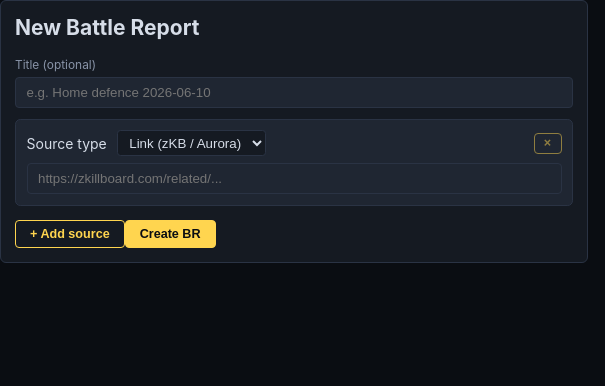
Scenario: SourceComposer › rejects a window with start >= end client-side
Switch row 0 to window
Select "Time window" in the dropdown labelled "Source type": (192, 143) top-left (117, 130), bottom-right (266, 156)
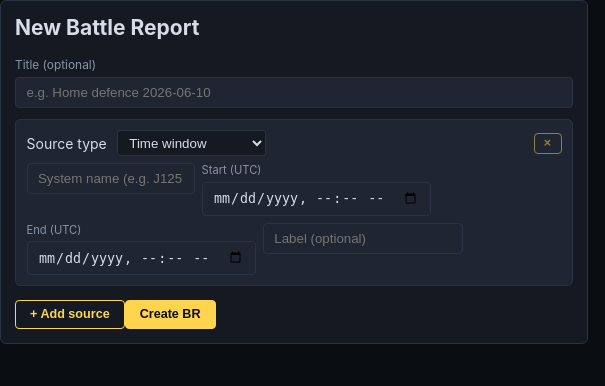
In the field with placeholder "System name (e.g. J125122)": (110, 179) top-left (26, 163), bottom-right (194, 194), type "J125122"
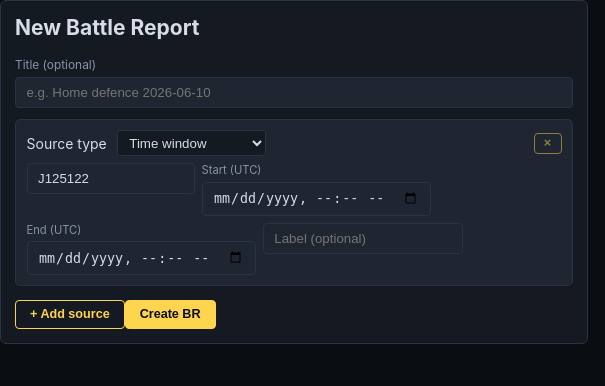
In the field labelled "Start (UTC)": (316, 199) top-left (202, 182), bottom-right (431, 216), type "2026-06-10T20:00"
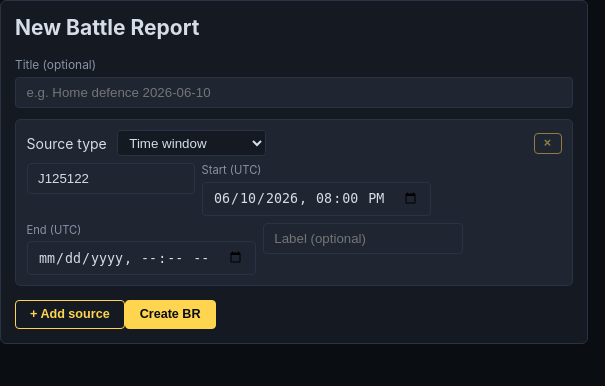
In the field labelled "End (UTC)": (141, 258) top-left (26, 241), bottom-right (256, 275), type "2026-06-10T18:00"
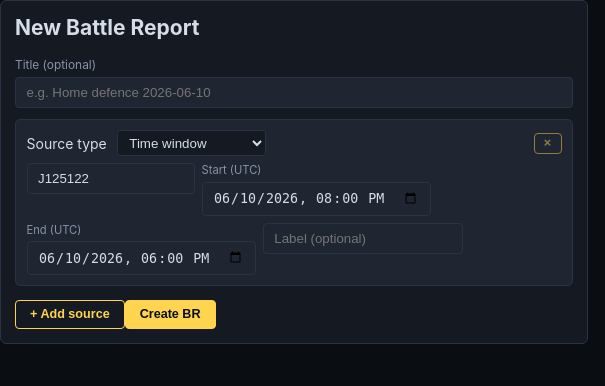
Click the button "Create BR": (170, 314) top-left (125, 300), bottom-right (216, 329)
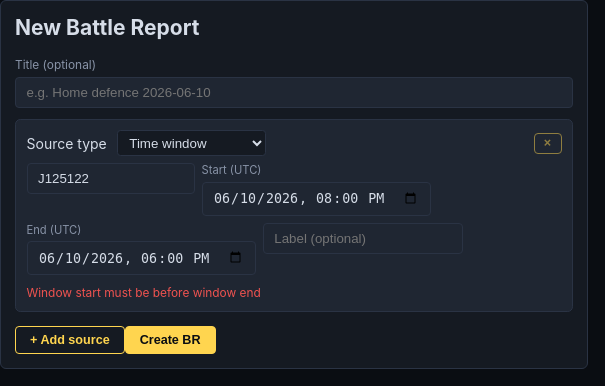
Expected: the message reads "Window start must be before window end", top-left (26, 285), bottom-right (261, 300)
